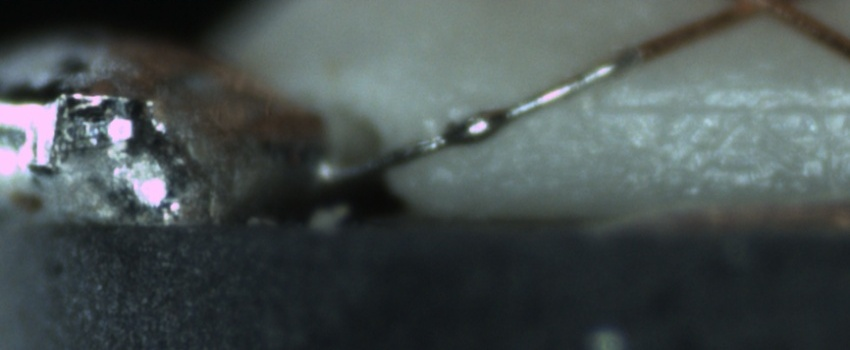CL: (713, 1, 807, 30)
DL: (562, 75, 850, 139)
TB: (448, 106, 509, 146)
TS: (310, 44, 642, 195)
TTCW: (314, 24, 681, 183)
